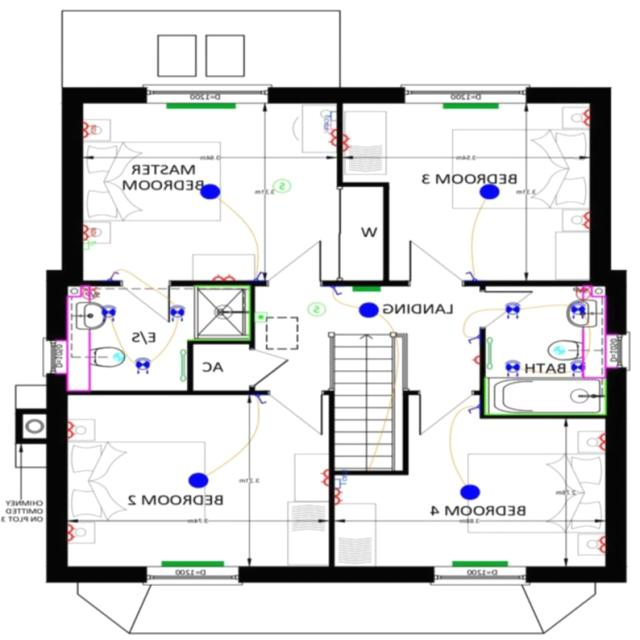Cat 6 Data Socket: (336, 469, 348, 488), (326, 111, 337, 128)
Ceiling Mounted Continuous Extract FanWith Boost Mode Activated By Light Switch: (554, 345, 566, 354), (114, 352, 125, 360)
Co-Ax TV Socket: (326, 119, 337, 133)
Double Socket: (68, 420, 78, 438), (68, 523, 78, 540), (582, 211, 591, 229), (214, 273, 236, 280), (597, 536, 606, 553), (343, 134, 352, 151), (328, 129, 337, 146), (582, 109, 591, 126), (597, 433, 606, 449), (336, 487, 344, 504), (322, 468, 329, 484)
Full Height Tiling: (485, 378, 607, 415), (191, 285, 251, 340)
Light Switch: (256, 394, 267, 404), (469, 334, 481, 343), (466, 271, 478, 280), (469, 404, 481, 412), (332, 286, 343, 294), (110, 271, 119, 280), (255, 271, 264, 279)
Low Energy Downlighter: (171, 304, 187, 322), (506, 359, 522, 376), (571, 359, 587, 376), (136, 357, 152, 373), (102, 304, 117, 321), (571, 302, 586, 319), (507, 302, 522, 319)
Low Energy Pendant Light: (201, 182, 221, 199), (479, 184, 502, 198), (189, 471, 209, 487), (361, 301, 380, 316), (461, 484, 480, 499)
Mains Wired Smoke Detector: (309, 302, 326, 315), (274, 178, 291, 191)
Programmable Room Thermostat: (255, 311, 268, 321)
Radiator: (163, 560, 225, 566), (167, 103, 236, 108), (454, 561, 508, 567), (444, 102, 501, 107), (354, 285, 382, 292)
Shaver Socket: (83, 284, 98, 303), (578, 285, 591, 302)
Single Socket: (473, 354, 481, 362)
Telephone Socket: (84, 238, 98, 248)
USB Double Socket: (84, 121, 98, 138), (84, 224, 97, 239)
